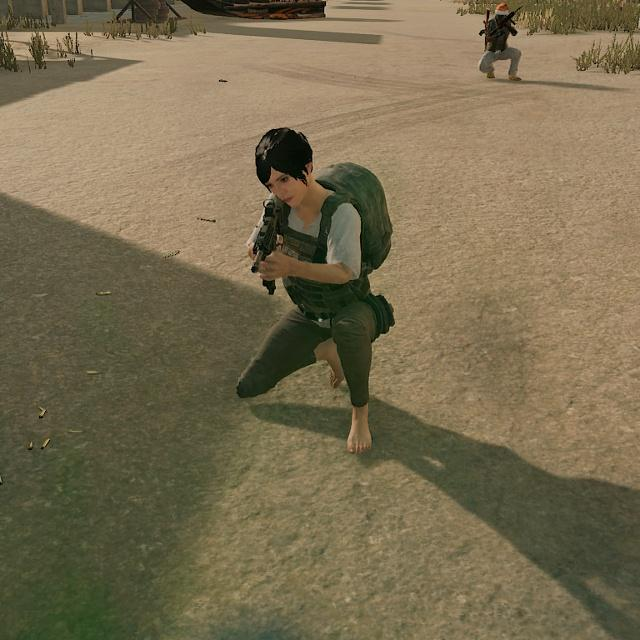head: (253, 124, 323, 212), (493, 2, 514, 23)
people: (232, 118, 416, 458), (472, 0, 526, 87)
